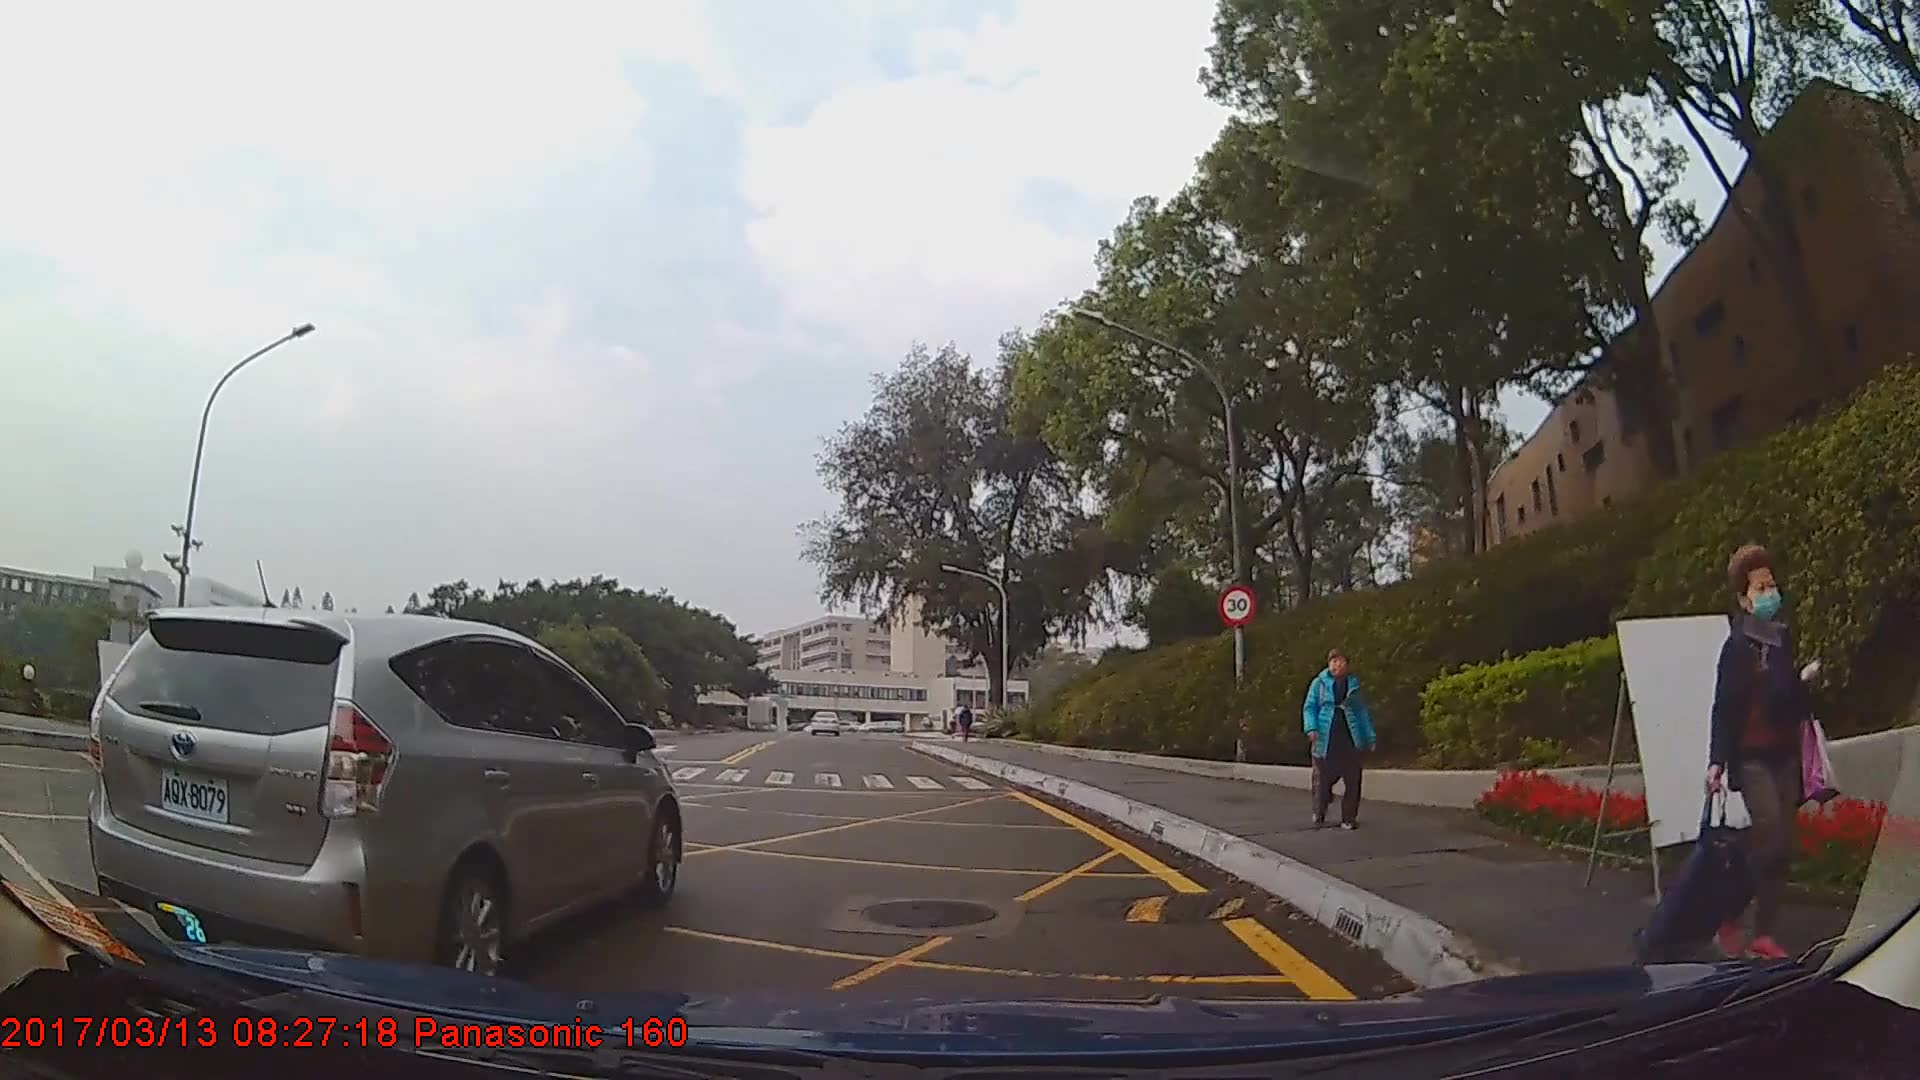pedestrian: (1638, 547, 1847, 980), (1295, 640, 1383, 840)
vehicle: (83, 603, 682, 981), (807, 706, 841, 733)
